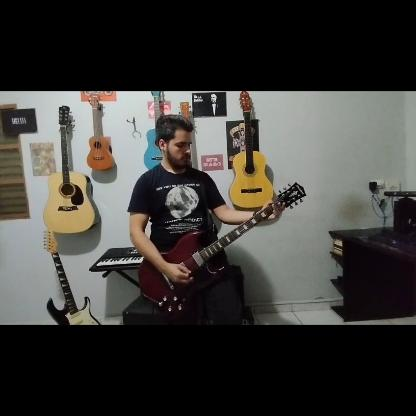acousticguitar: (44, 104, 96, 234), (229, 92, 273, 212), (144, 92, 170, 170)
guitar: (138, 183, 302, 315), (45, 228, 101, 326)
